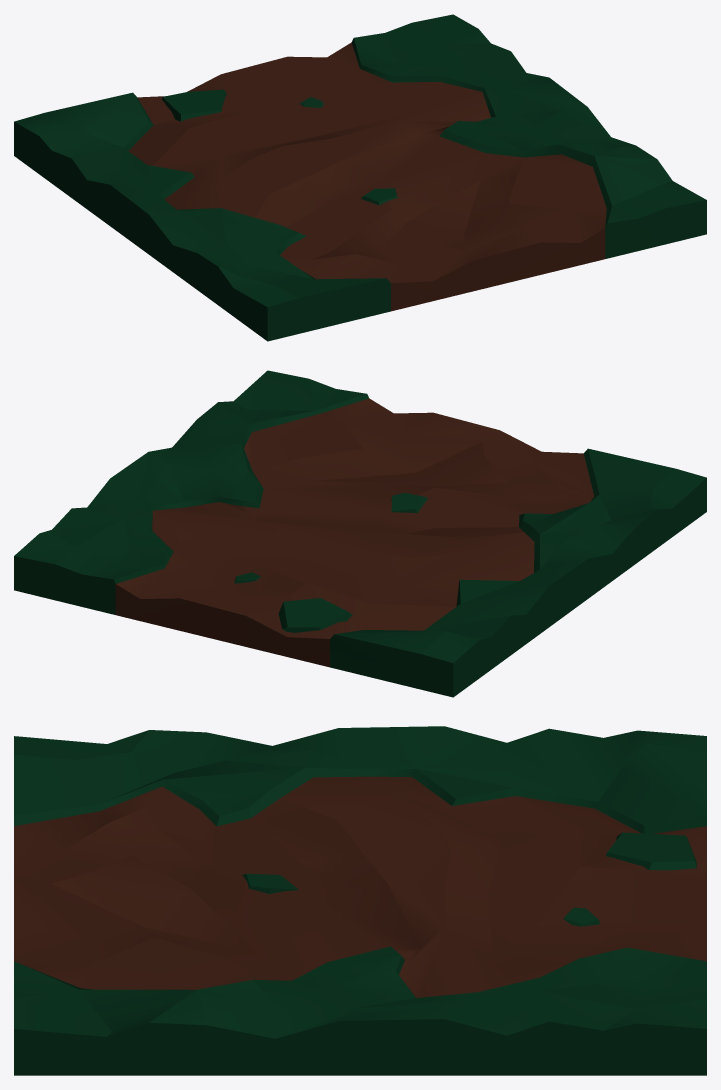
File: Ground_Path_V.fbx
The picture shows the model from 3 angles, top to bottom: view 1: azimuth 30°, elevation 25°; view 2: azimuth 150°, elevation 25°; view 3: azimuth 270°, elevation 25°; orthographic projection. The views are drawn at different scales.
Visible parts, largest first — view 1: Ground_Path_V; view 2: Ground_Path_V; view 3: Ground_Path_V.
Part boxes in pixels (x1,y1,x2,y2): Ground_Path_V: [14, 14, 706, 341]; Ground_Path_V: [14, 370, 706, 697]; Ground_Path_V: [14, 726, 706, 1075].
Size of the model in its own units: 147 by 13.97 by 147.
